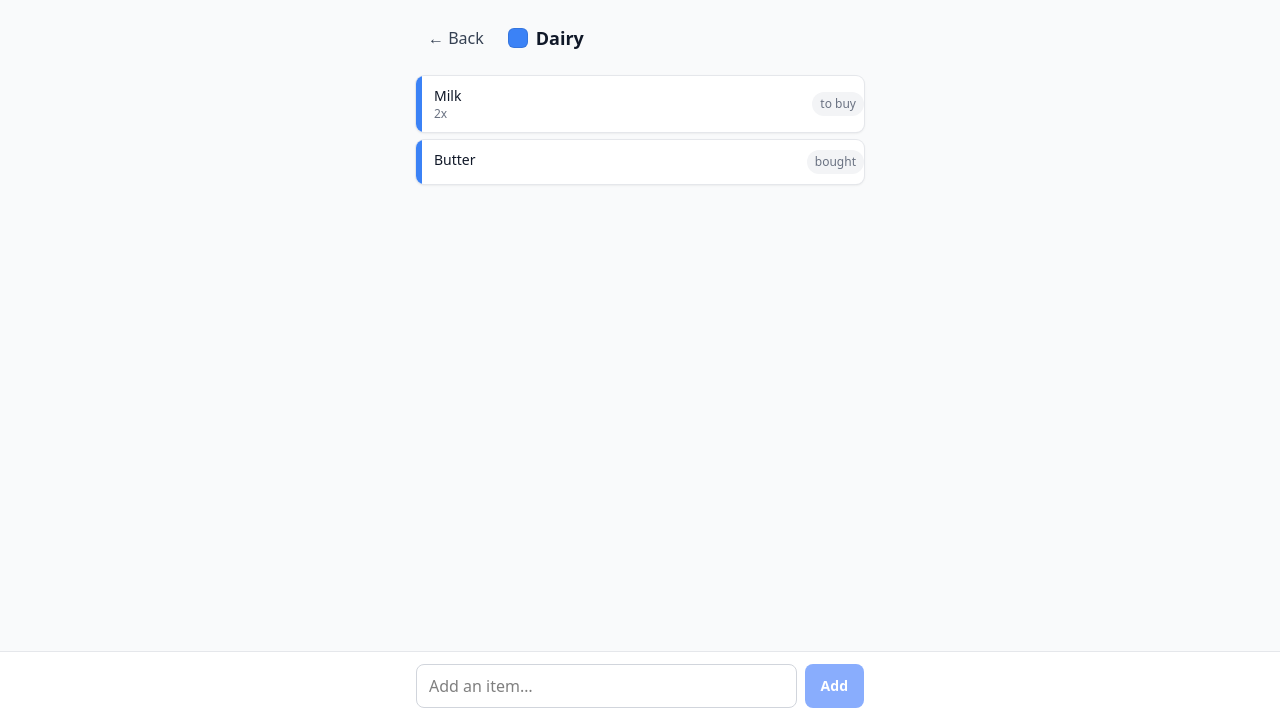
Test: CategoryItemsPage add-from-category bar (docs/TASKS.md → T43) › suggests only this category's items; a to-buy tap is a no-op that just closes (DoD)
Expected: the list item with test id "category-item-i1" is shown, [416,76,864,132]
Type "mi" into the field named "Add item".
click(606, 686); type("mi")  # box [416,664,797,708]
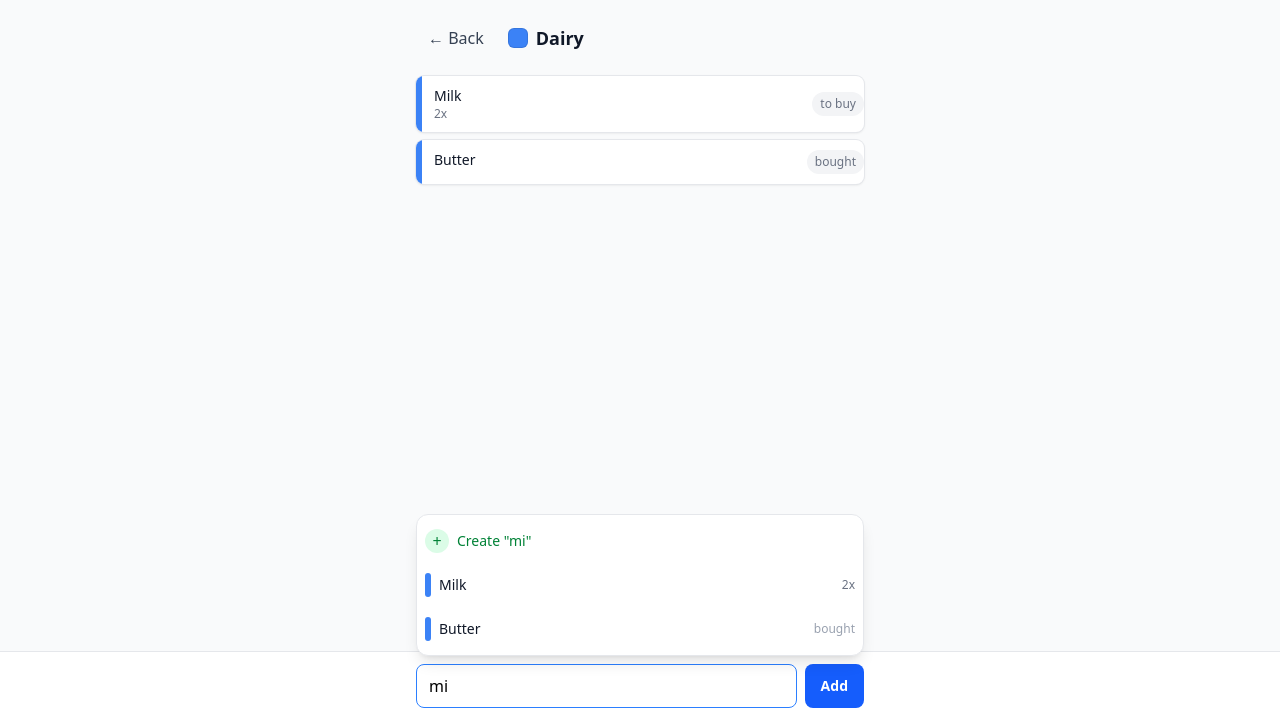
Result: the button with test id "suggestion-i1" is shown
# A TO_BUY suggestion is already listed — tapping it only closes the layer.
Click the button with test id "suggestion-i1".
click(428, 585)  # box [421,563,859,607]
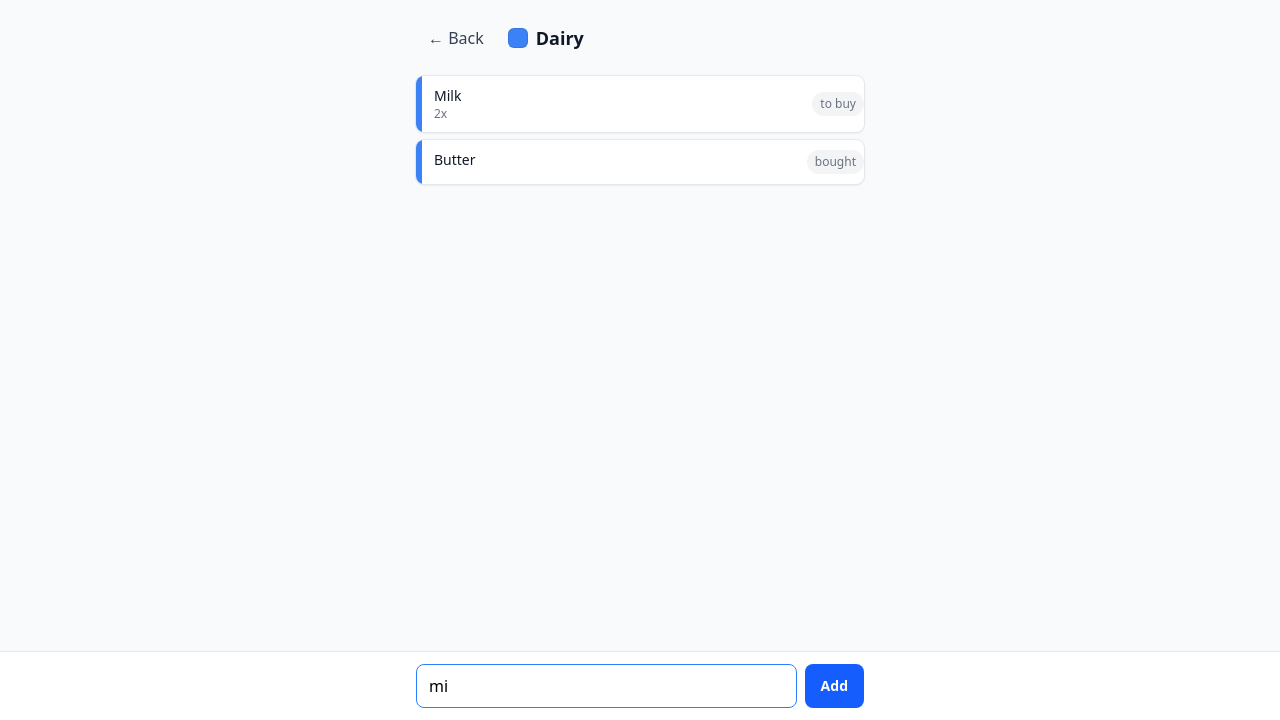
Result: the element with test id "suggestions-popover" is gone
